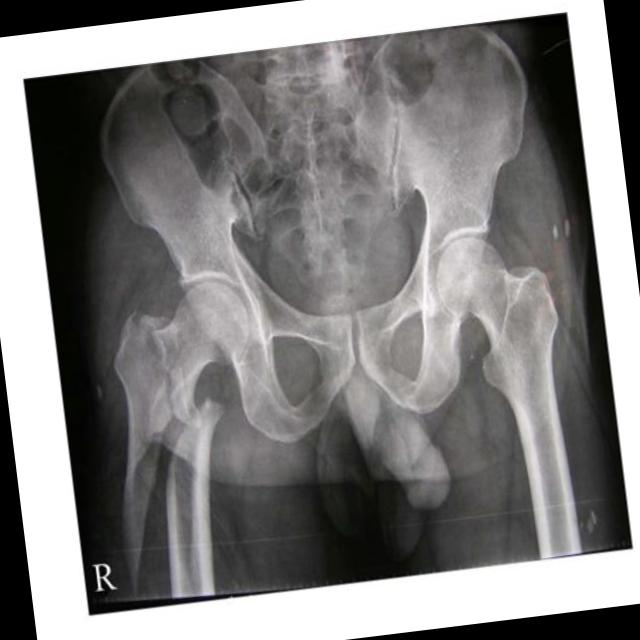normal-left: (436, 237, 564, 450)
right-intertrochanteric: (139, 281, 249, 427), (113, 310, 173, 422)
right-subtrochanteric: (165, 399, 224, 597), (122, 414, 166, 598)
